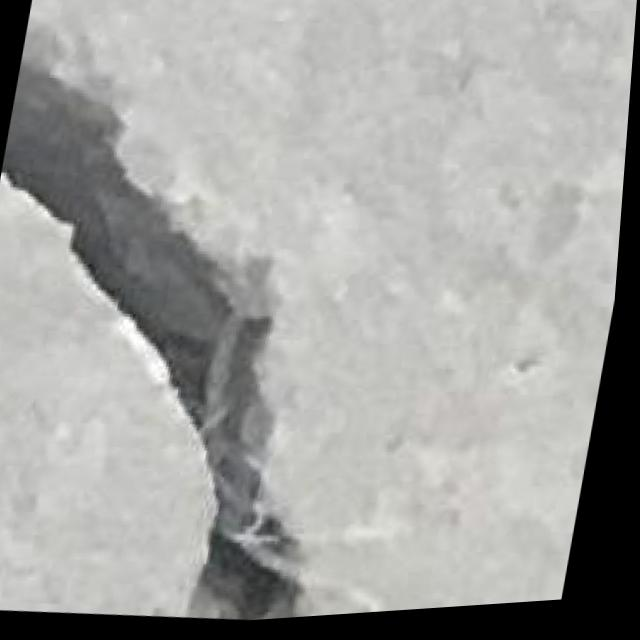Crack: (0, 28, 419, 640)
